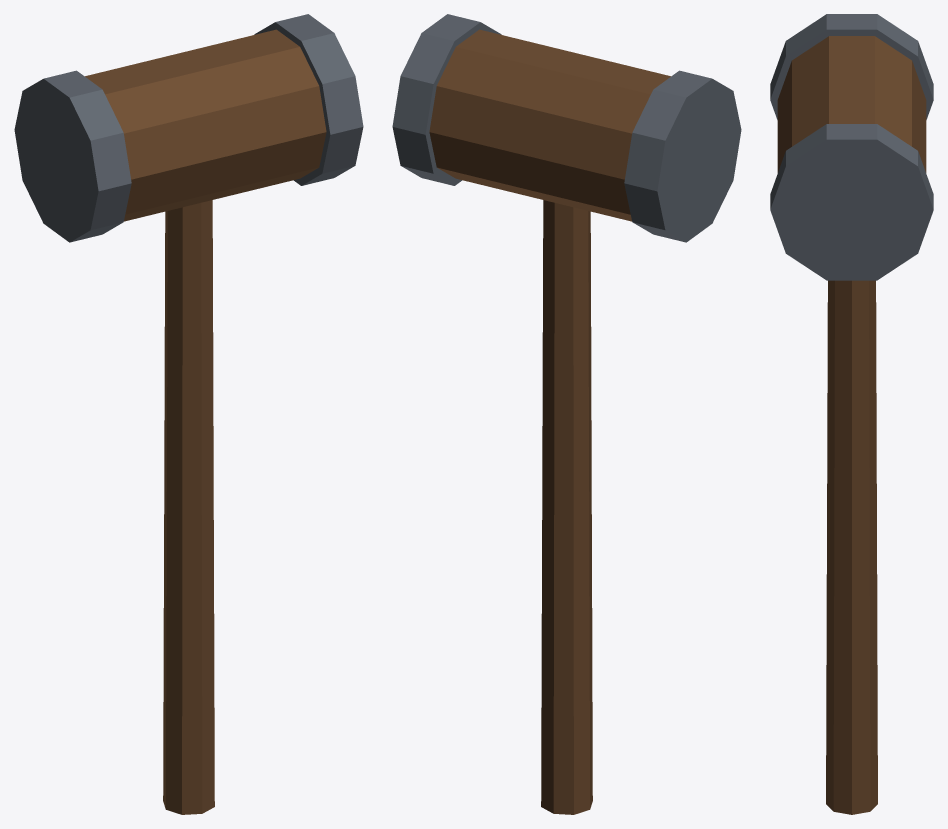
The model's file is g-lighthammer-mallet.glb.
3 views of the same model, side by side, from view 1: azimuth 30°, elevation 25°; view 2: azimuth 150°, elevation 25°; view 3: azimuth 270°, elevation 25° (orthographic). The views are drawn at different scales.
Parts seen in each view (by area): view 1: g-lighthammer-mallet; view 2: g-lighthammer-mallet; view 3: g-lighthammer-mallet.
Part boxes in pixels (x1,y1,x2,y2): g-lighthammer-mallet: (14,14,363,814); g-lighthammer-mallet: (392,14,741,814); g-lighthammer-mallet: (770,14,933,814).
Bounding box in the file's own units: 0.16 × 0.4318 × 0.088.
